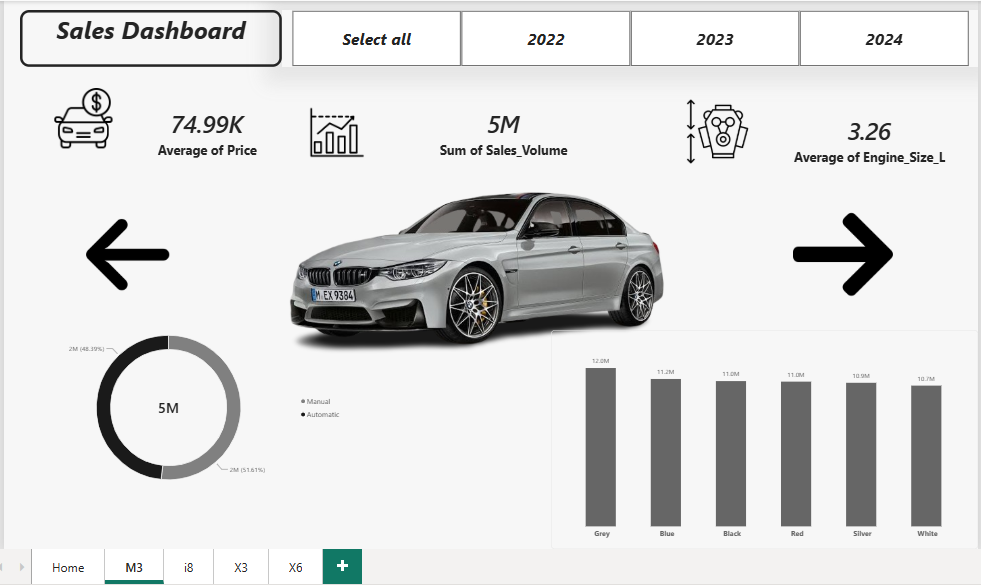

What the dashboard file says about the page in this screenshot:
{"tool":"powerbi","page":{"name":"M3","canvas":[1920,1080],"ordinal":1},"visuals":[{"type":"slicer","fields":{"Values":["BMW_Car_Sales_Classification.Year"]},"box":[548.6,17.3,1371.6,112.3],"z":1},{"type":"textbox","box":[32.4,17.3,516.2,112.3],"z":2},{"type":"image","box":[483.8,170.6,887.8,712.8],"z":3},{"type":"image","box":[69.1,170.6,175,118.8],"z":4},{"type":"cardVisual","fields":{"Data":["Avg(BMW_Car_Sales_Classification.Price_USD)"]},"box":[222.5,149,356.4,220.3],"z":5},{"type":"image","box":[1291.7,187.9,231.1,140.4],"z":6},{"type":"cardVisual","fields":{"Data":["Avg(BMW_Car_Sales_Classification.Engine_Size_L)"]},"box":[1522.8,170.6,365,203],"z":7},{"type":"image","box":[578.9,205.2,153.4,108],"z":8},{"type":"cardVisual","fields":{"Data":["Sum(BMW_Car_Sales_Classification.Sales_Volume)"]},"box":[801.4,157.7,365,203],"z":9},{"type":"columnChart","fields":{"Category":["BMW_Car_Sales_Classification.Color"],"Y":["Sum(BMW_Car_Sales_Classification.Price)"]},"box":[1077.8,648,842.4,432],"z":10},{"type":"donutChart","fields":{"Category":["BMW_Car_Sales_Classification.Transmission"],"Y":["Sum(BMW_Car_Sales_Classification.Sales_Volume)"]},"box":[49.7,587.5,637.2,429.8],"z":11},{"type":"image","box":[1555.2,380.2,196.6,237.6],"z":12},{"type":"image","box":[84.2,416.9,317.5,164.2],"z":13}]}

Visuals, with their boxes on the page's 1920x1080 design canvas (x1, y1, x2, y2). These are canvas units, not pixel positions in the 981x585 screenshot, which may show the page scaled, cropped or inside an application window:
slicer - BMW_Car_Sales_Classification.Year: pyautogui.locateOnScreen(549, 17, 1920, 130)
textbox: pyautogui.locateOnScreen(32, 17, 549, 130)
image: pyautogui.locateOnScreen(484, 171, 1372, 883)
image: pyautogui.locateOnScreen(69, 171, 244, 289)
cardVisual - Avg(BMW_Car_Sales_Classification.Price_USD): pyautogui.locateOnScreen(222, 149, 579, 369)
image: pyautogui.locateOnScreen(1292, 188, 1523, 328)
cardVisual - Avg(BMW_Car_Sales_Classification.Engine_Size_L): pyautogui.locateOnScreen(1523, 171, 1888, 374)
image: pyautogui.locateOnScreen(579, 205, 732, 313)
cardVisual - Sum(BMW_Car_Sales_Classification.Sales_Volume): pyautogui.locateOnScreen(801, 158, 1166, 361)
columnChart - BMW_Car_Sales_Classification.Color x Sum(BMW_Car_Sales_Classification.Price): pyautogui.locateOnScreen(1078, 648, 1920, 1080)
donutChart - BMW_Car_Sales_Classification.Transmission x Sum(BMW_Car_Sales_Classification.Sales_Volume): pyautogui.locateOnScreen(50, 588, 687, 1017)
image: pyautogui.locateOnScreen(1555, 380, 1752, 618)
image: pyautogui.locateOnScreen(84, 417, 402, 581)
